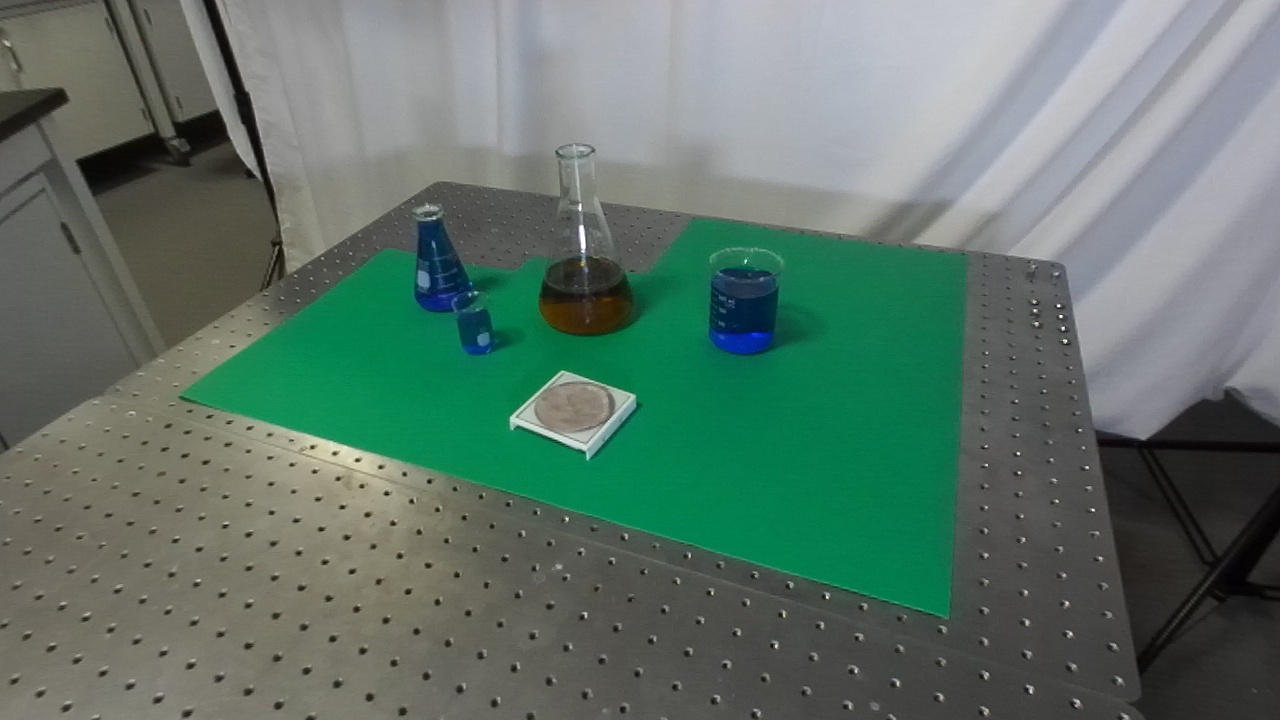glass: (534, 135, 641, 342), (704, 240, 789, 360), (410, 199, 476, 322), (449, 287, 504, 365)
plate: (503, 364, 645, 466)
